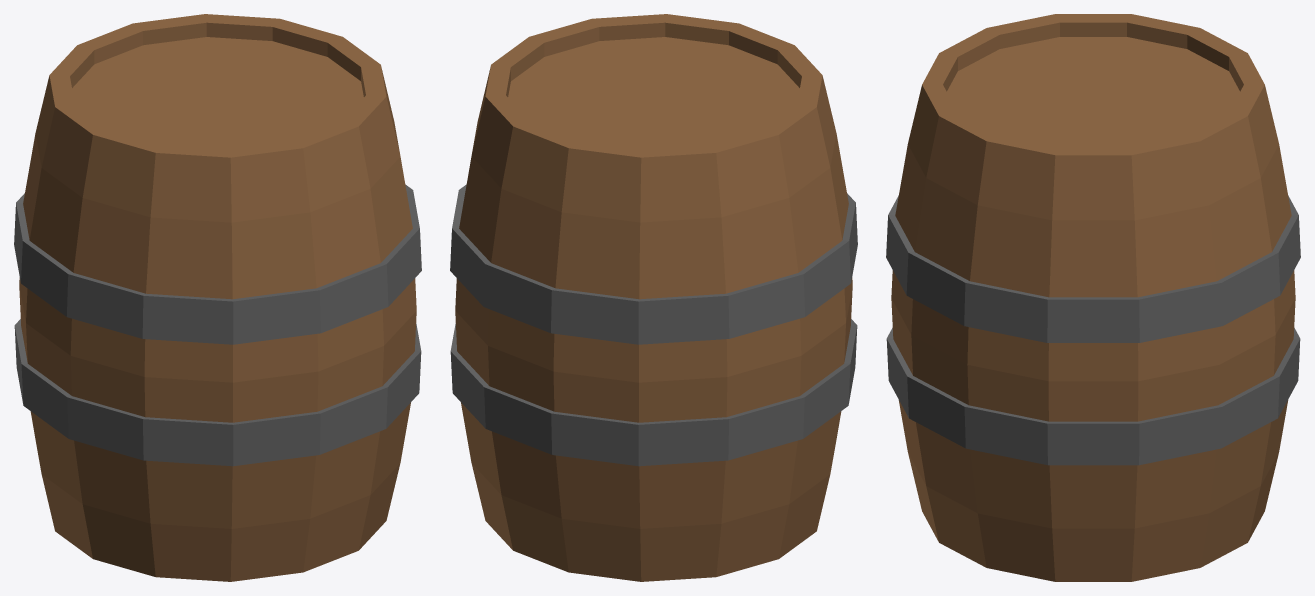
Rendered from Barrel.dae.
3 renders of one model, left to right at view 1: azimuth 30°, elevation 25°; view 2: azimuth 150°, elevation 25°; view 3: azimuth 270°, elevation 25°, orthographic.
Parts seen in each view (by area): view 1: Cylinder; view 2: Cylinder; view 3: Cylinder.
Boxes of the visible parts, x1=… form: Cylinder: x1=14, y1=14, x2=421, y2=581; Cylinder: x1=450, y1=14, x2=857, y2=581; Cylinder: x1=886, y1=14, x2=1300, y2=581.
Size of the model in its own units: 2.36 by 2.42 by 2.75.
Materials: 1 (1 with a texture image).
